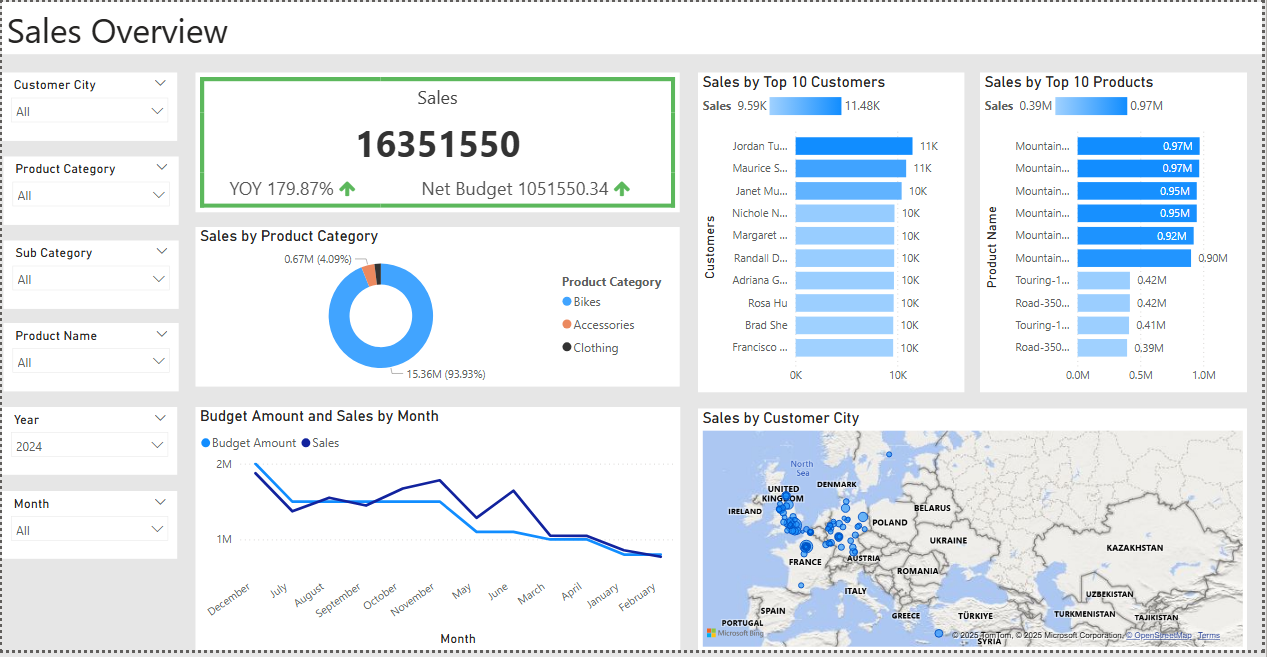

This screenshot's page, from the dashboard's own definition file:
{"tool":"powerbi","page":{"name":"Sales Overview","canvas":[1400,720],"ordinal":0},"visuals":[{"type":"textbox","box":[0,0,1500,58],"z":0},{"type":"slicer","fields":{"Values":["DIM_Customers.Customer City"]},"box":[0,77.6,194.8,75.9],"z":1000},{"type":"slicer","fields":{"Values":["Dim_Products.Product Category"]},"box":[1.7,172.4,194.8,75.9],"z":2000},{"type":"slicer","fields":{"Values":["Dim_Products.Sub Category"]},"box":[1.7,265.5,194.8,75.9],"z":3000},{"type":"slicer","fields":{"Values":["Dim_Products.Product Name"]},"box":[1.7,356.9,194.8,75.9],"z":4000},{"type":"slicer","fields":{"Values":["Dim_Calendar.Year"]},"box":[0,450,194.8,75],"z":5000},{"type":"slicer","fields":{"Values":["Dim_Calendar.Month"]},"box":[0,543.1,194.8,75],"z":6000},{"type":"donutChart","fields":{"Category":["Dim_Products.Product Category"],"Y":["Key Measures.Sales"]},"box":[215.5,250,537.9,177.6],"z":7000},{"type":"lineChart","fields":{"Y":["Key Measures.Budget Amount","Key Measures.Sales"],"Category":["Dim_Calendar.Month"]},"box":[215,450,538.3,270],"z":8000},{"type":"barChart","title":"Sales by Top 10 Customers","fields":{"Y":["Key Measures.Sales"],"Category":["DIM_Customers.Full Name"]},"box":[773.3,78.3,296,355],"z":9000},{"type":"barChart","title":"Sales by Top 10 Products","fields":{"Y":["Key Measures.Sales"],"Category":["Dim_Products.Product Name"]},"box":[1086.7,78.3,296.7,355],"z":10000},{"type":"map","fields":{"Category":["DIM_Customers.Customer City"],"Size":["Key Measures.Sales"]},"box":[773.3,451.7,610,269],"z":11000},{"type":"BBED0A4D4D8D44CE93CF2DAFADEE466C","fields":{"actual":["Key Measures.Sales"],"target1":["Key Measures.YoY Growth %"],"target2":["Key Measures.Net Budget"]},"box":[215.5,77.6,537.9,155.2],"z":12000}]}

Visuals, with their boxes in screenshot pixels (x1, y1, x2, y2), scaled from the page's 1400x720 canvas onto the 1275x657 screenshot:
textbox: (left=0, top=0, right=1274, bottom=53)
slicer - DIM_Customers.Customer City: (left=0, top=71, right=177, bottom=140)
slicer - Dim_Products.Product Category: (left=2, top=157, right=179, bottom=227)
slicer - Dim_Products.Sub Category: (left=2, top=242, right=179, bottom=312)
slicer - Dim_Products.Product Name: (left=2, top=326, right=179, bottom=395)
slicer - Dim_Calendar.Year: (left=0, top=411, right=177, bottom=479)
slicer - Dim_Calendar.Month: (left=0, top=496, right=177, bottom=564)
donutChart - Dim_Products.Product Category x Key Measures.Sales: (left=196, top=228, right=686, bottom=390)
lineChart - Key Measures.Budget Amount x Key Measures.Sales: (left=196, top=411, right=686, bottom=656)
"Sales by Top 10 Customers" barChart: (left=704, top=71, right=974, bottom=395)
"Sales by Top 10 Products" barChart: (left=990, top=71, right=1260, bottom=395)
map - DIM_Customers.Customer City x Key Measures.Sales: (left=704, top=412, right=1260, bottom=656)
BBED0A4D4D8D44CE93CF2DAFADEE466C - Key Measures.Sales x Key Measures.YoY Growth %: (left=196, top=71, right=686, bottom=212)
